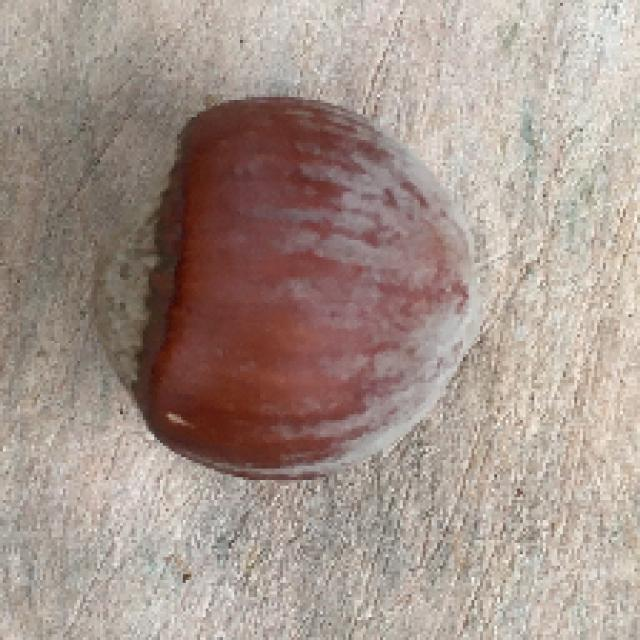qualityHazelnut: (89, 91, 484, 489)
